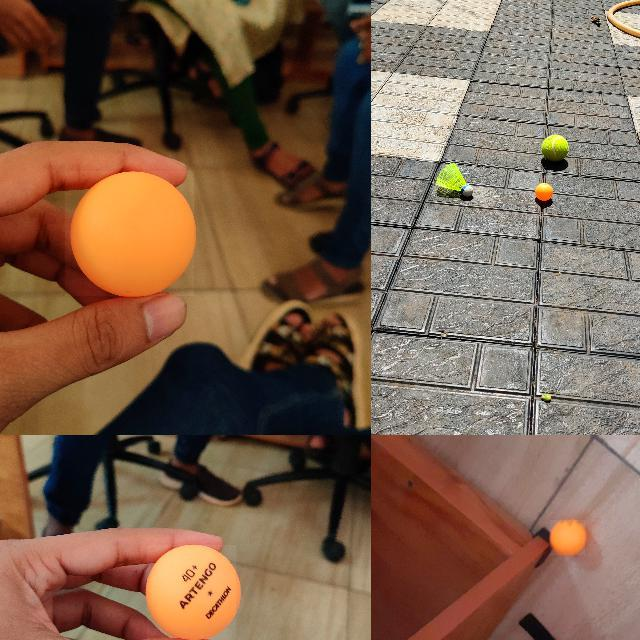ping-pong-ball: (65, 171, 195, 297), (146, 545, 238, 639), (550, 520, 586, 556), (534, 183, 552, 201)
